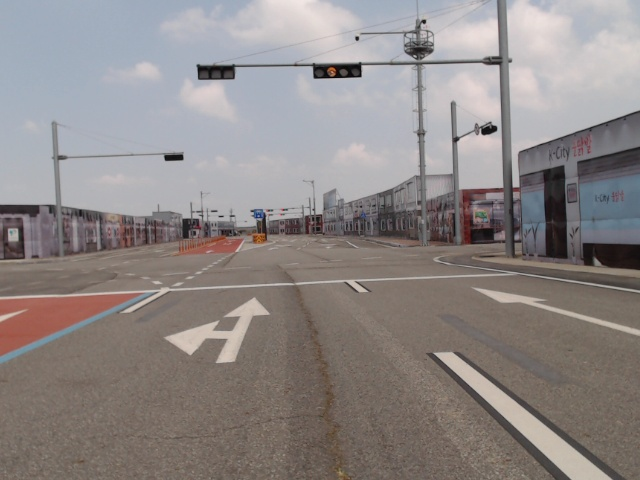orange_4: (311, 64, 362, 79)
